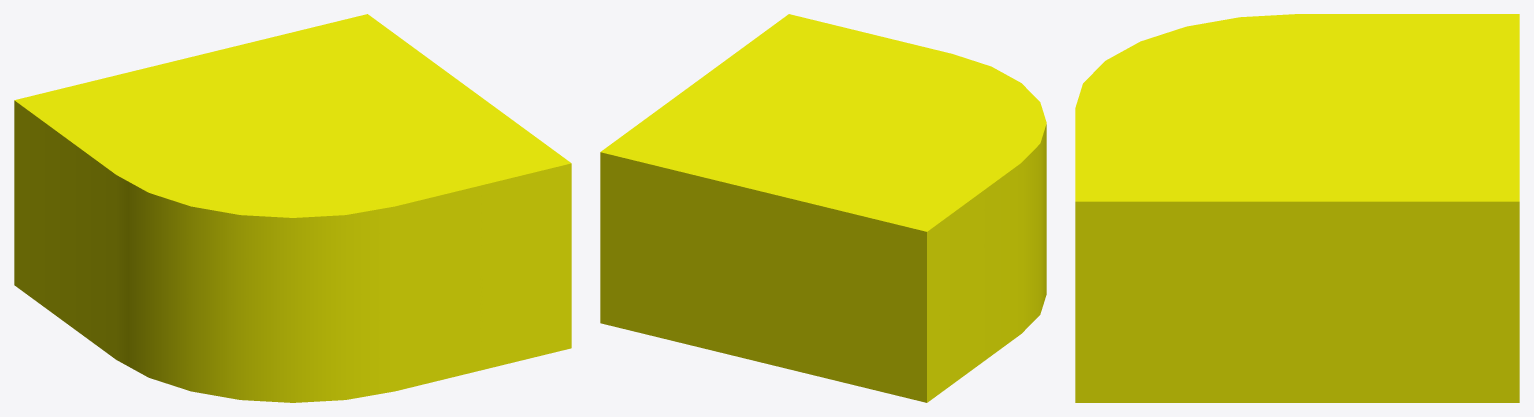
File: kaykit-terrain-low-curved.glb
3 views of the same model, side by side, from view 1: azimuth 30°, elevation 25°; view 2: azimuth 150°, elevation 25°; view 3: azimuth 270°, elevation 25° (orthographic). The views are drawn at different scales.
Parts seen in each view (by area): view 1: terrain_low_curved; view 2: terrain_low_curved; view 3: terrain_low_curved.
Part boxes in pixels (x1,y1,x2,y2): terrain_low_curved: (14, 14, 571, 402); terrain_low_curved: (600, 14, 1046, 402); terrain_low_curved: (1075, 14, 1519, 402).
Bounding box in the file's own units: 2 × 1 × 2.
